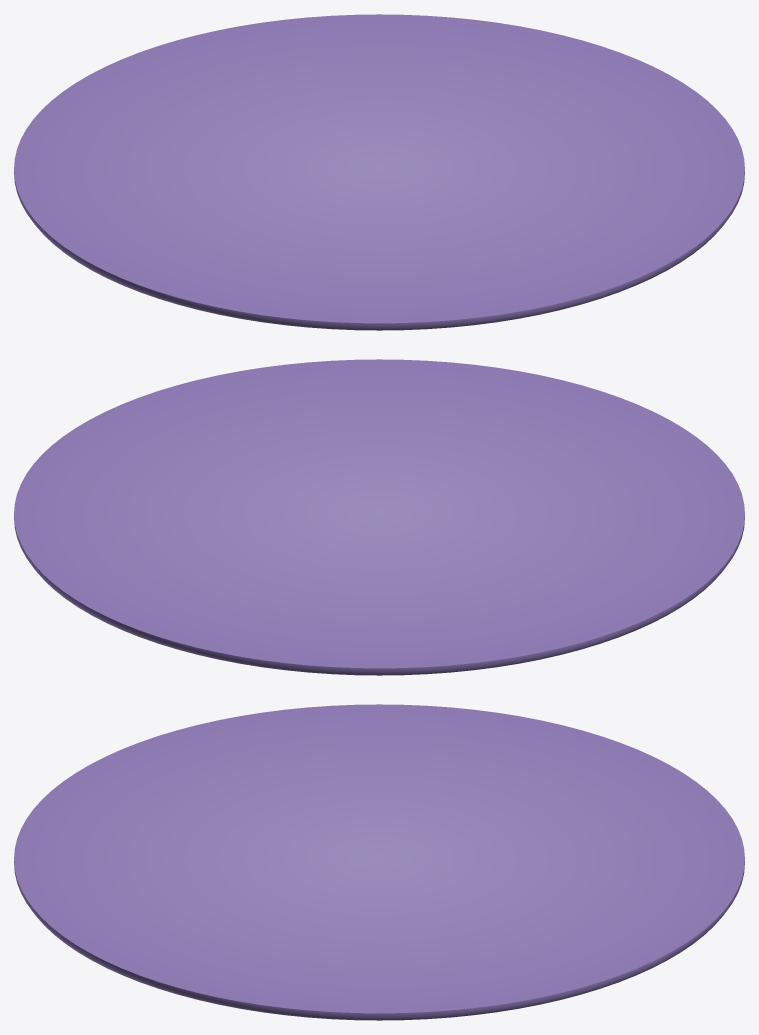
The model's file is Title_StageTop.fbx.
3 views of the same model, one above another, from view 1: azimuth 30°, elevation 25°; view 2: azimuth 150°, elevation 25°; view 3: azimuth 270°, elevation 25° (orthographic).
Parts seen in each view (by area): view 1: Title_StageTop; view 2: Title_StageTop; view 3: Title_StageTop.
Boxes of the visible parts, bbox=[...] form: Title_StageTop: bbox=[14, 14, 744, 330]; Title_StageTop: bbox=[14, 359, 744, 675]; Title_StageTop: bbox=[14, 704, 744, 1020].
Bounding box in the file's own units: 0.94 × 0.014 × 0.94.
